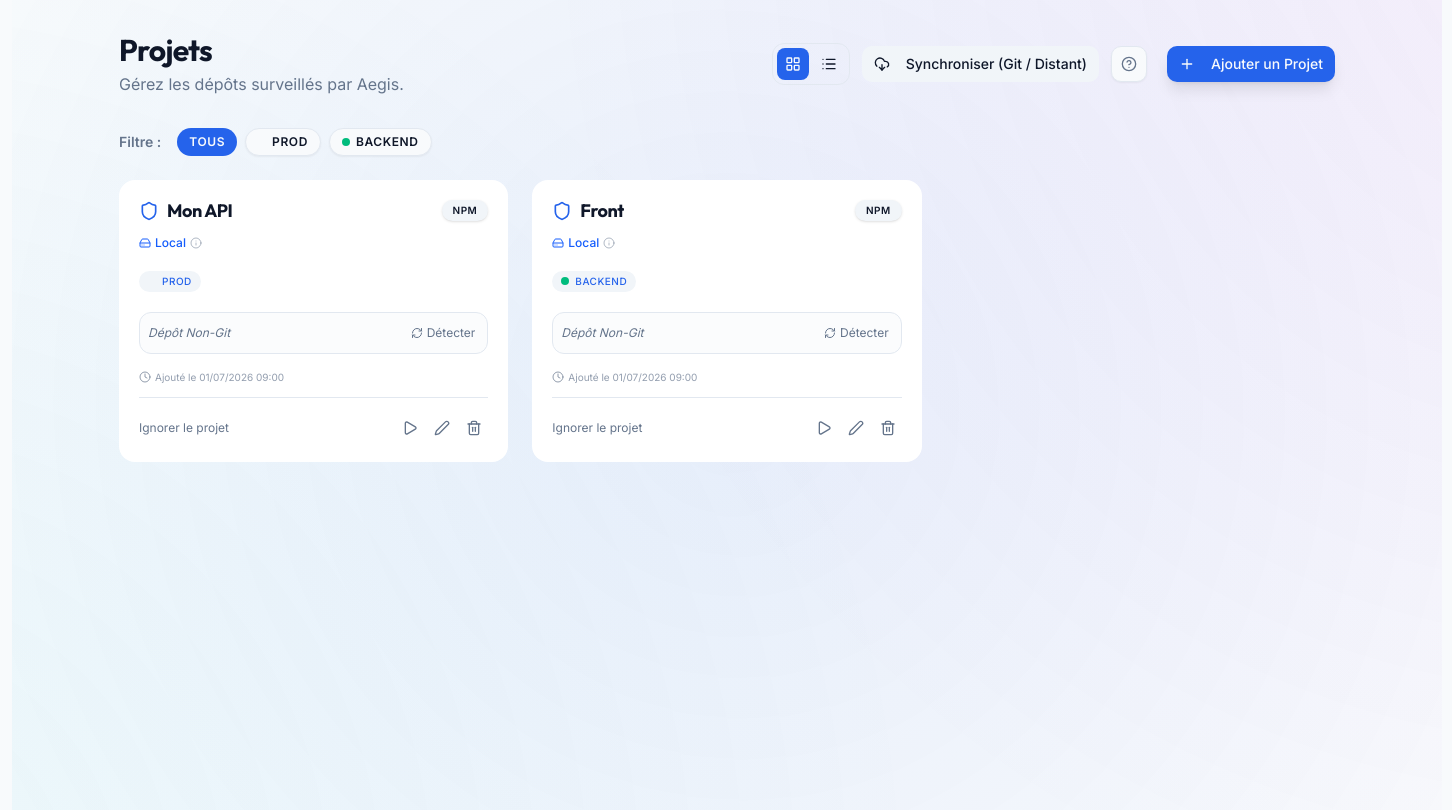
Test case: Projects › « Tous » réinitialise le filtre
The width and height of the screenshot is (1452, 810).
Expected: the heading "Mon API" is shown, [167,200,232,222]
Click the button "prod". click: (283, 142)
box: [245,128,321,156]
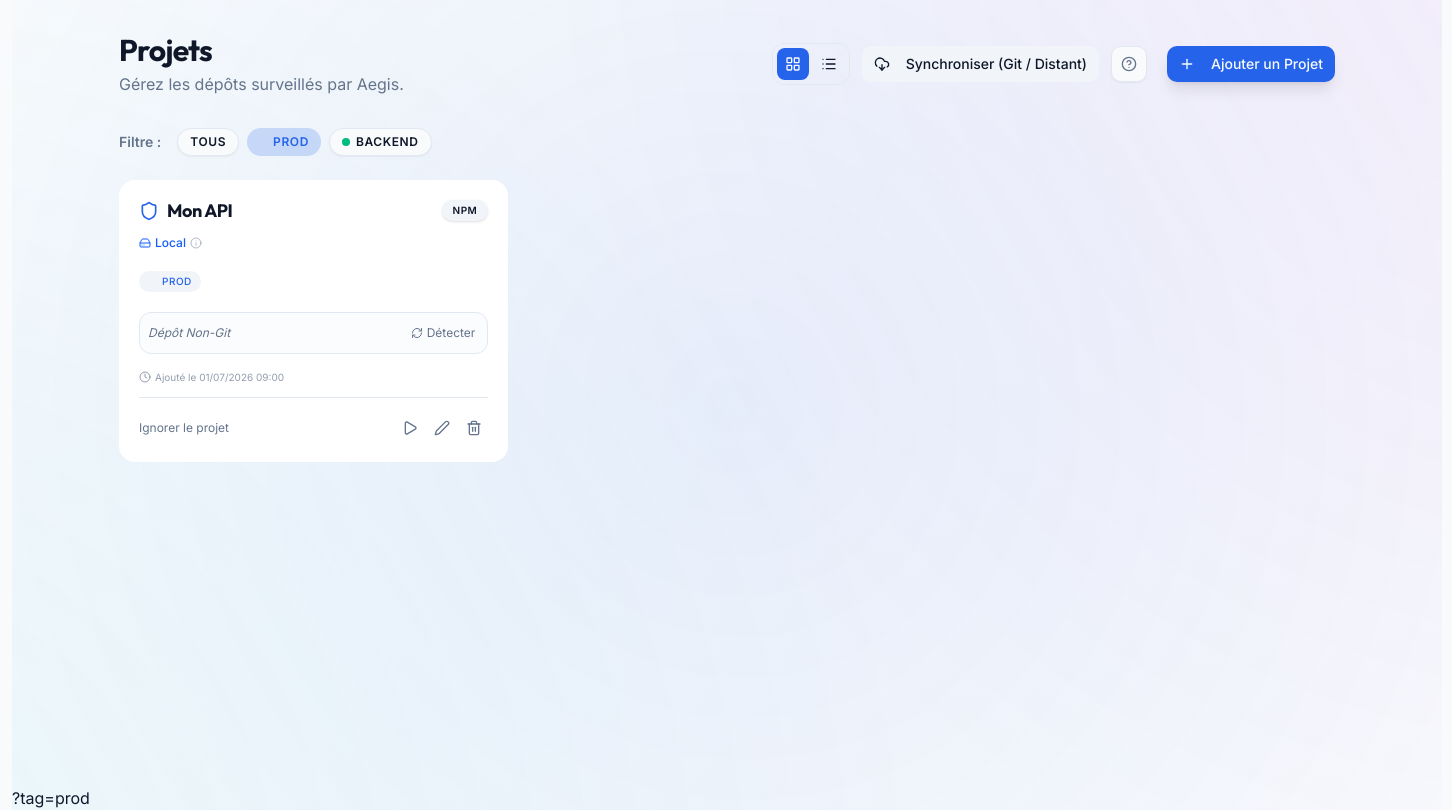
Expected: no buttons "Front" are shown
Click the button "Tous". click: (208, 142)
box: [177,128,239,156]
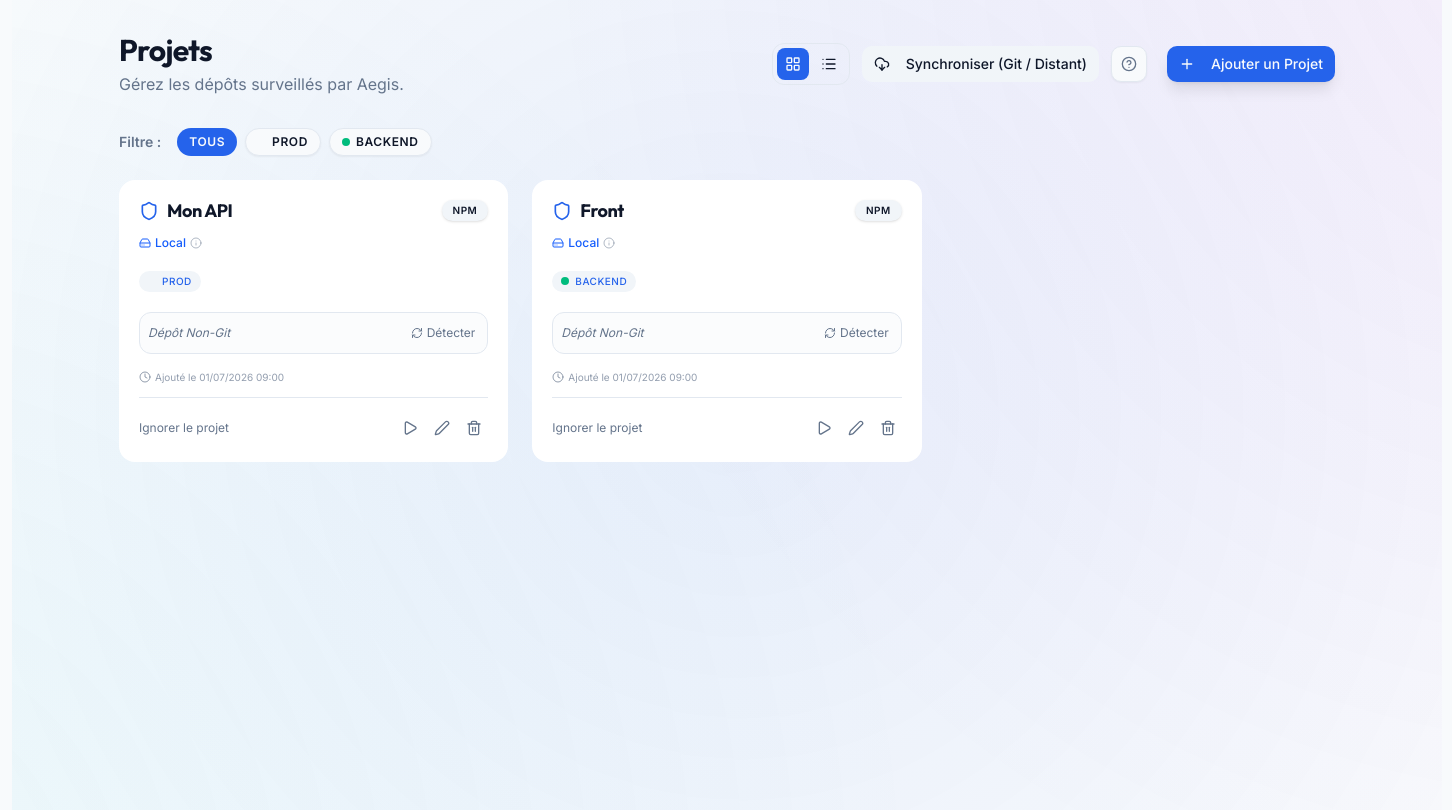
Expected: the heading "Front" is shown, [580,200,624,222]
